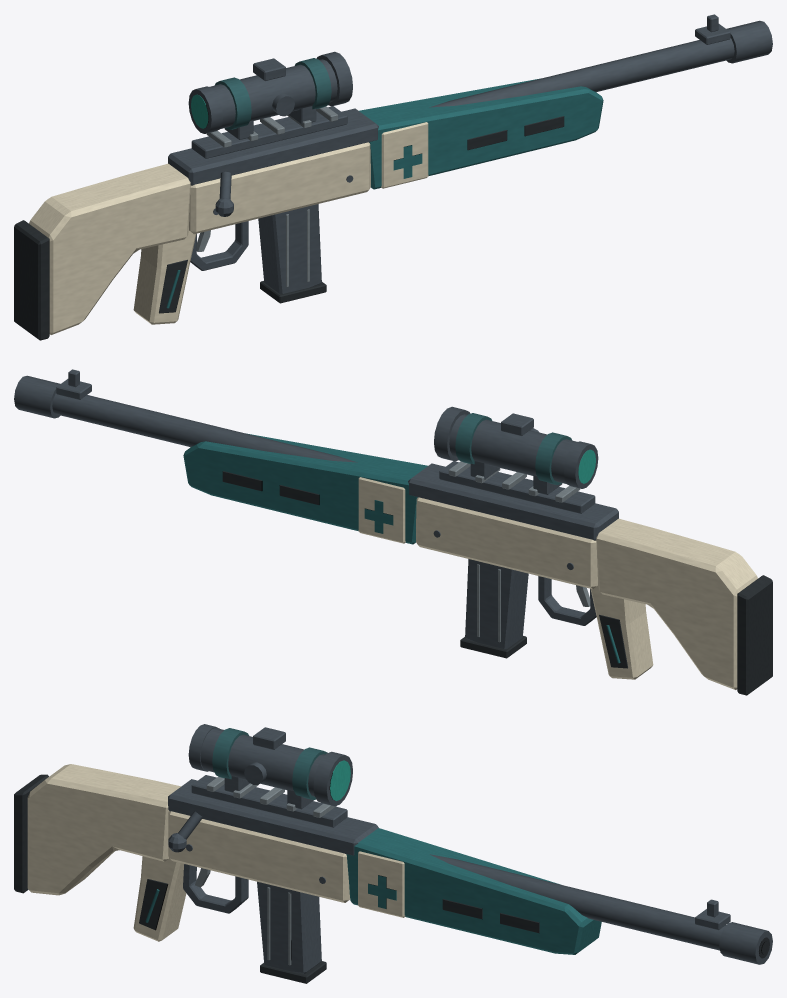
Rendered from security_rifle.glb.
3 renders of one model, top to bottom at view 1: azimuth 30°, elevation 25°; view 2: azimuth 150°, elevation 25°; view 3: azimuth 330°, elevation 25°, orthographic.
Visible parts, largest first — view 1: SecurityRifle_Mesh; view 2: SecurityRifle_Mesh; view 3: SecurityRifle_Mesh.
Part boxes in pixels (x1,y1,x2,y2): SecurityRifle_Mesh: [14, 14, 772, 340]; SecurityRifle_Mesh: [14, 369, 772, 695]; SecurityRifle_Mesh: [14, 724, 772, 983].
Size of the model in its own units: 0.777 by 0.233 by 0.077.
2 materials, 2 textured.
